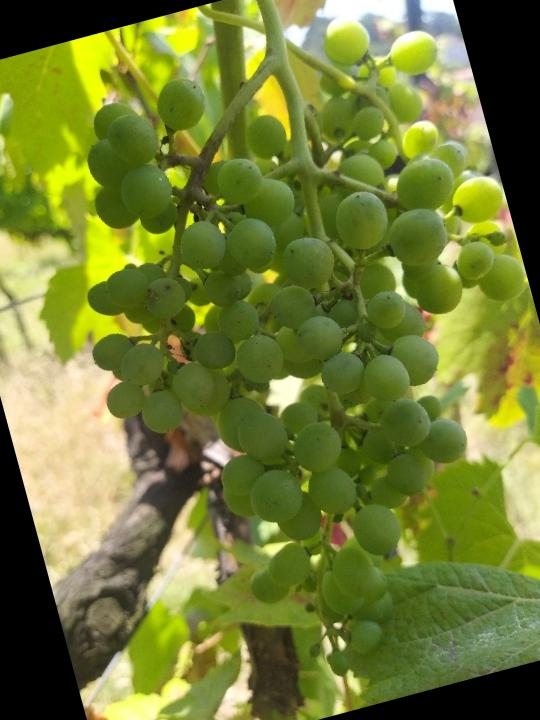grape: (21, 0, 540, 720)
